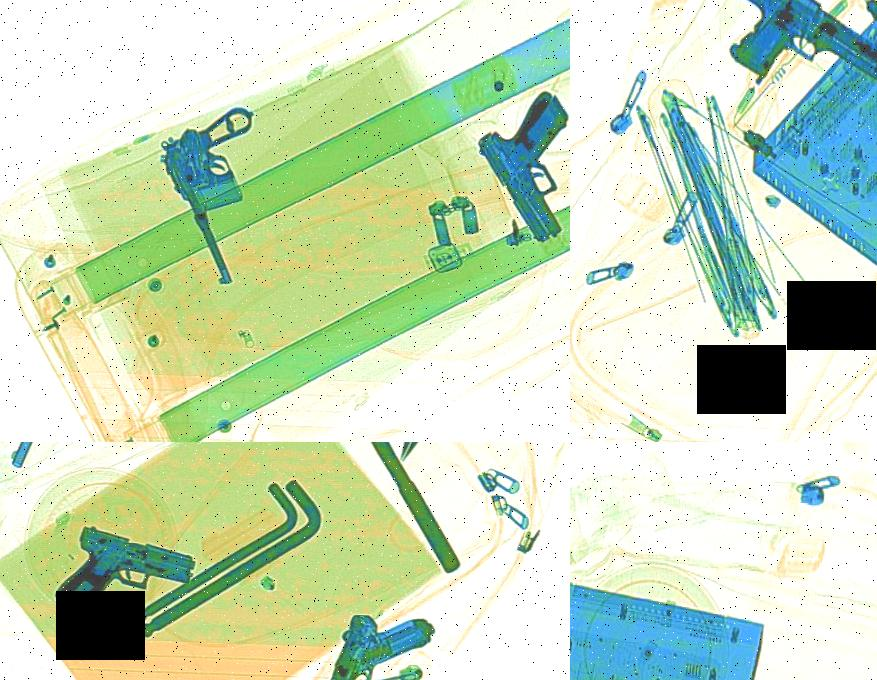Gun: (140, 97, 330, 289), (705, 0, 877, 137), (451, 83, 570, 248), (51, 521, 202, 638), (298, 591, 440, 680), (7, 442, 169, 495)
